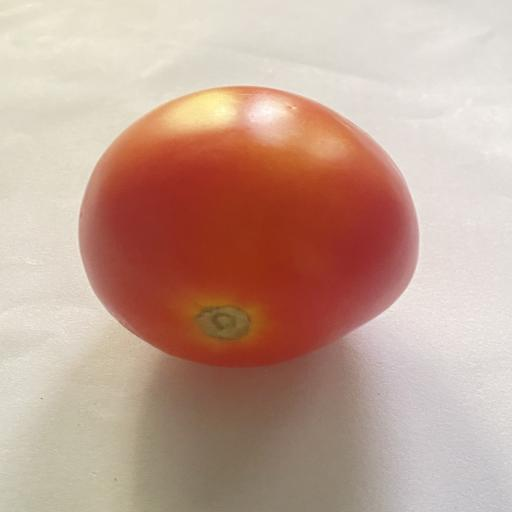ripe: (80, 86, 418, 366)
